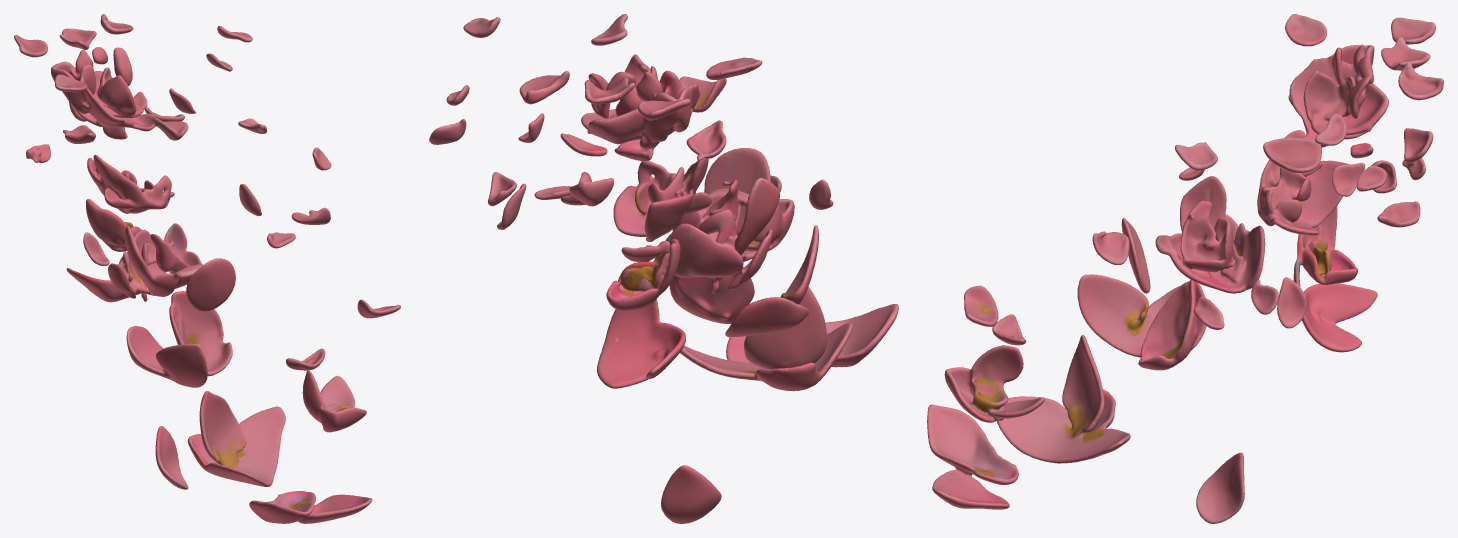
File: petal_compressed.glb
The picture shows the model from 3 angles, left to right: view 1: azimuth 30°, elevation 25°; view 2: azimuth 150°, elevation 25°; view 3: azimuth 270°, elevation 25°; orthographic projection. The views are drawn at different scales.
Visible parts, largest first — view 1: petal; view 2: petal; view 3: petal.
Part boxes in pixels (x1=…): petal: x1=14, y1=14, x2=400, y2=523; petal: x1=429, y1=14, x2=898, y2=523; petal: x1=927, y1=14, x2=1443, y2=523.
Bounding box in the file's own units: 0.6506 × 0.9136 × 0.9235.
Materials: 1 (1 with a texture image).
